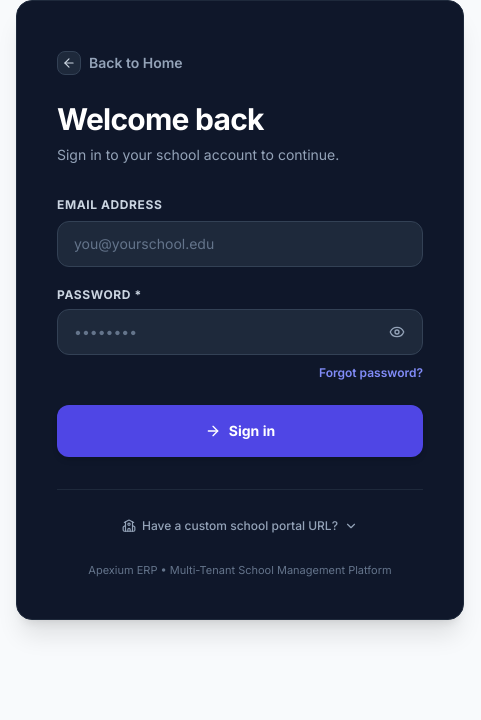
it: Login Page Overhaul, Accessibility & Demo Flow Audit › handles invalid login credentials and renders an accessible error alert (role='alert')
Type "invalid@school.edu" into the field labelled "Email Address".
click(240, 244); type("invalid@school.edu")  # box [57, 221, 423, 267]
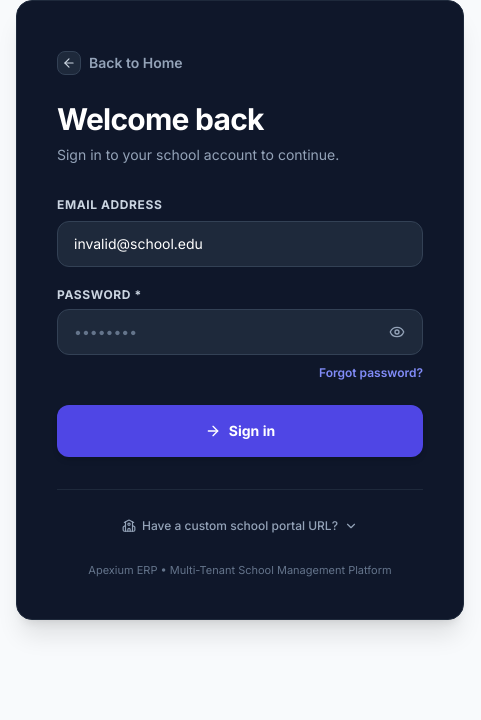
Type "WrongPass123" into the password field labelled "Password *".
click(240, 332); type("WrongPass123")  # box [57, 309, 423, 355]
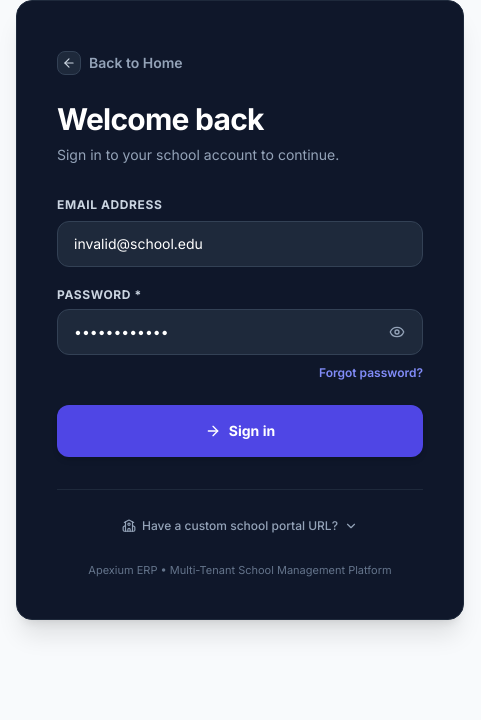
Click the button "Sign in".
click(240, 431)  # box [57, 405, 423, 457]
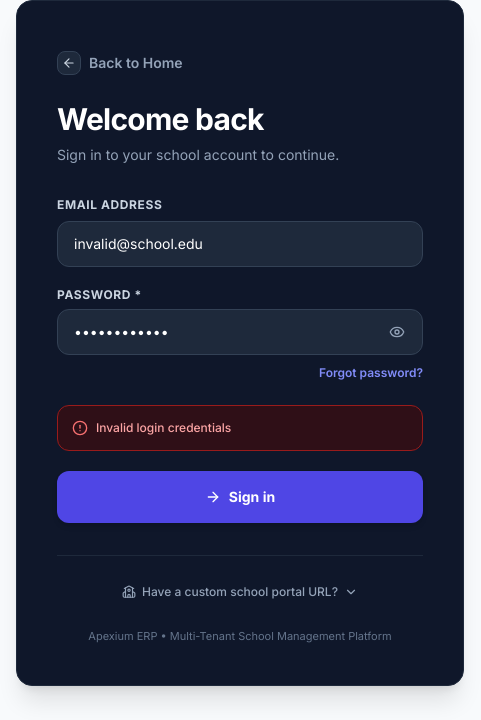
Expected: the message "Invalid login credentials" is shown, [57, 405, 423, 451]
Expected: the message reads "Invalid login credentials", [96, 420, 231, 435]
